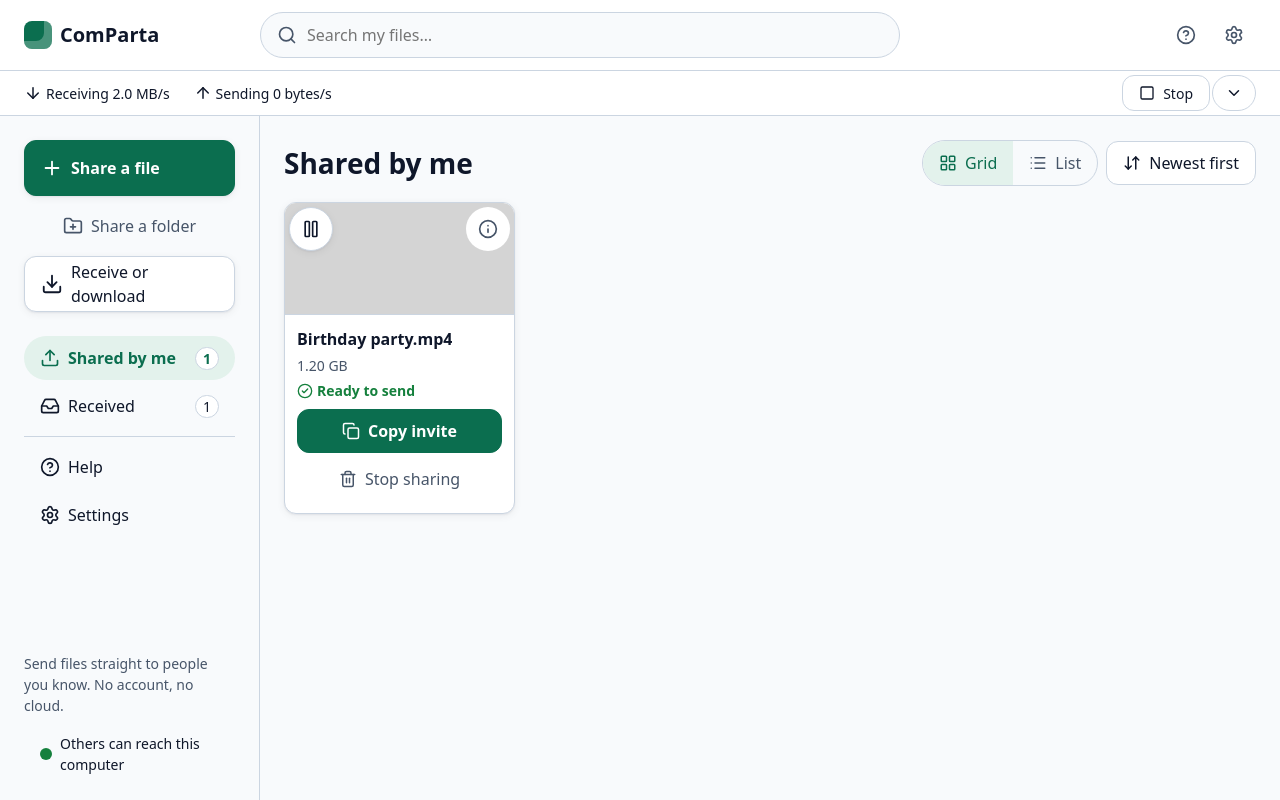
Test case: the speed bar › stops only receiving from the menu, and the file reads "Stopped" without its own Pause
The image size is (1280, 800).
Expected: the text "2.0 MB/s" is shown, [112, 84, 170, 102]
Click the button named "More ways to stop" at (1234, 93), box [1212, 75, 1256, 111]
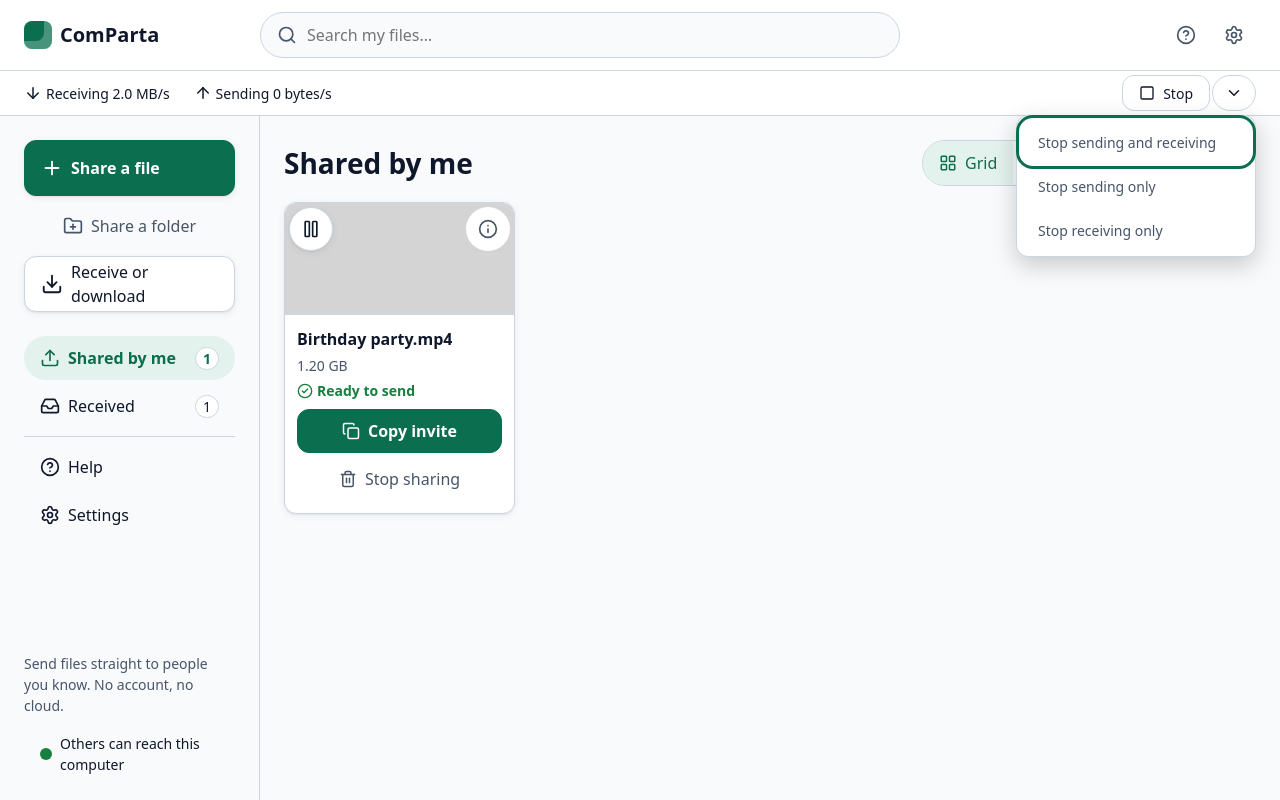
Now the menu items read "Stop sending and receiving", "Stop sending only", "Stop receiving only", in this order
Click the menu item "Stop receiving only" at (1136, 230), box [1021, 208, 1251, 252]
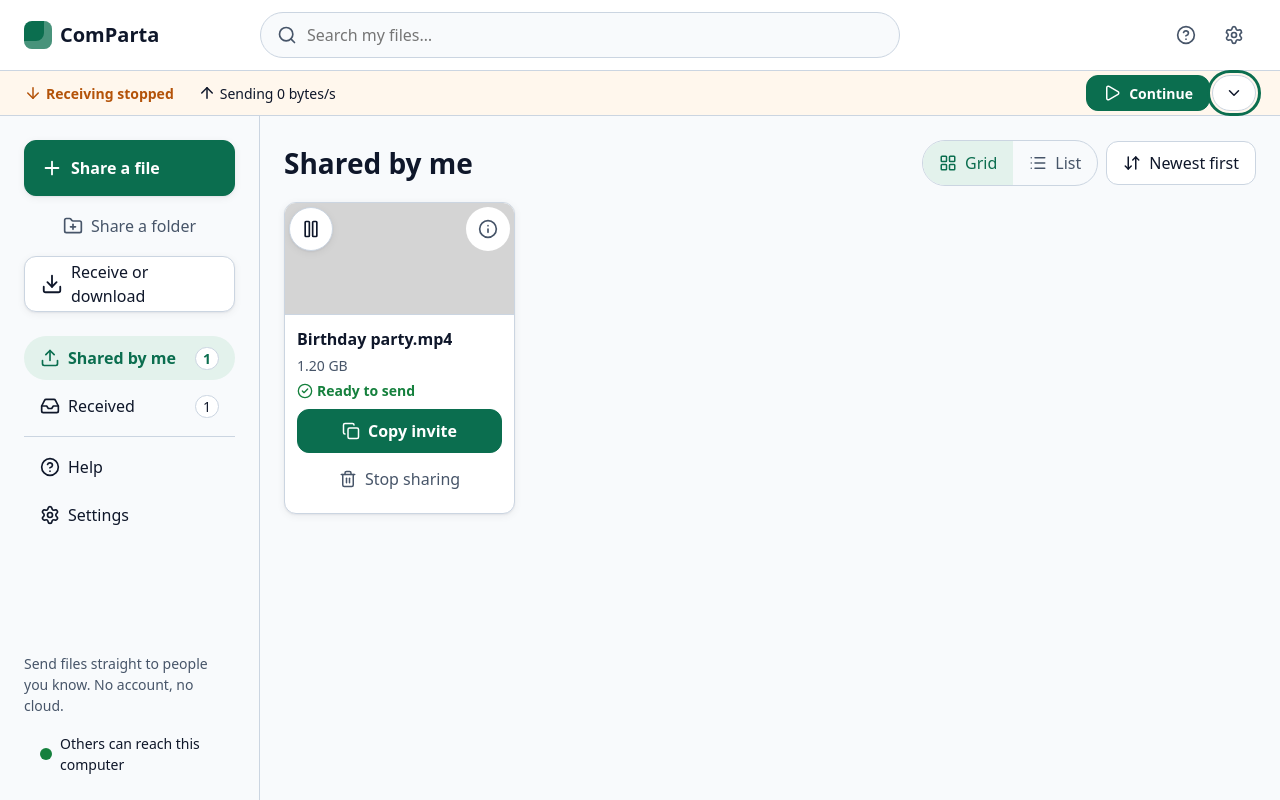
Expected: the text "Stopped with everything else. Choose Continue, here or at the top, to go on." is not shown
Now the menu is gone
Now the text "Receiving stopped" is shown, box [46, 82, 174, 104]
Click the button "Received 1" at (130, 406), box [24, 384, 235, 428]
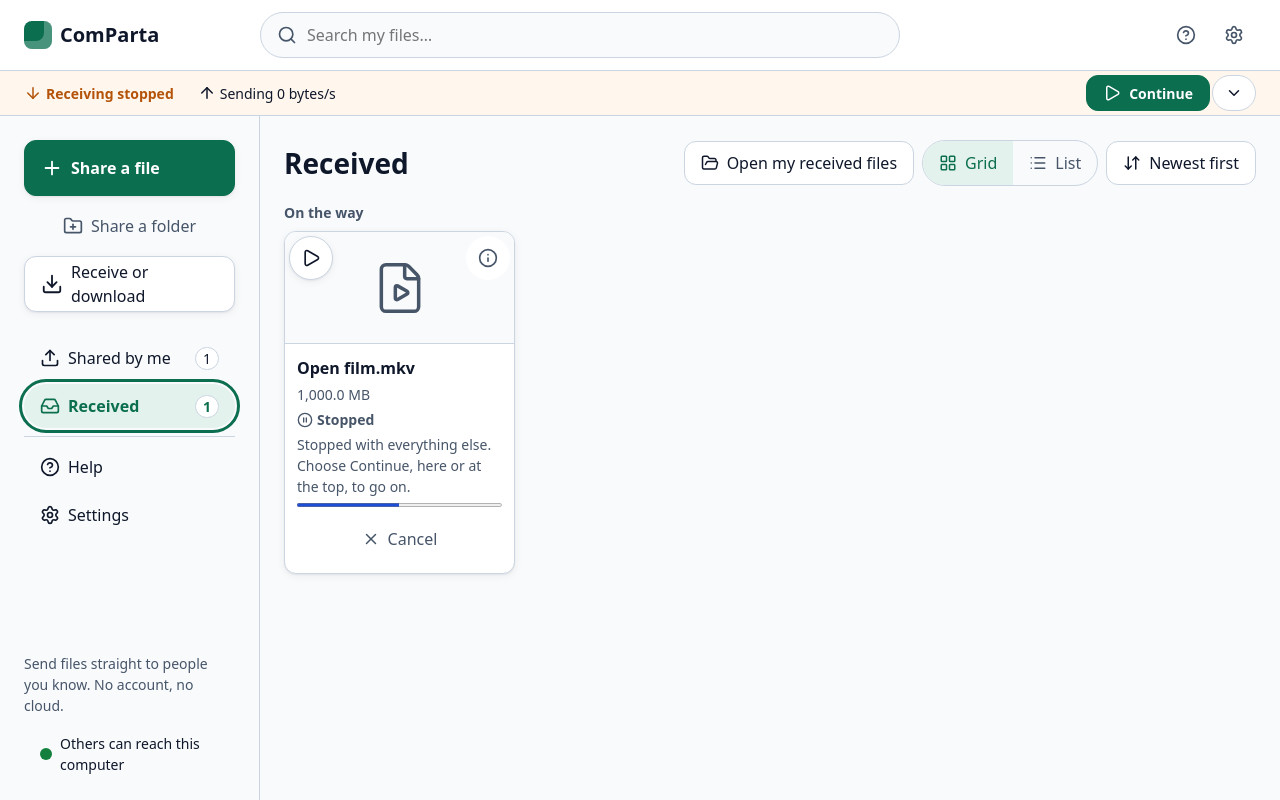
Now the text "Stopped" is shown, box [297, 409, 374, 430]
